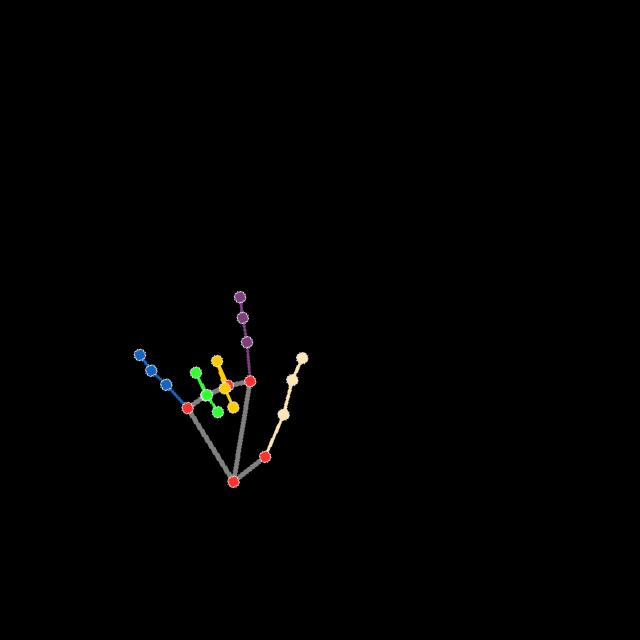spiderman: (127, 286, 310, 489)
